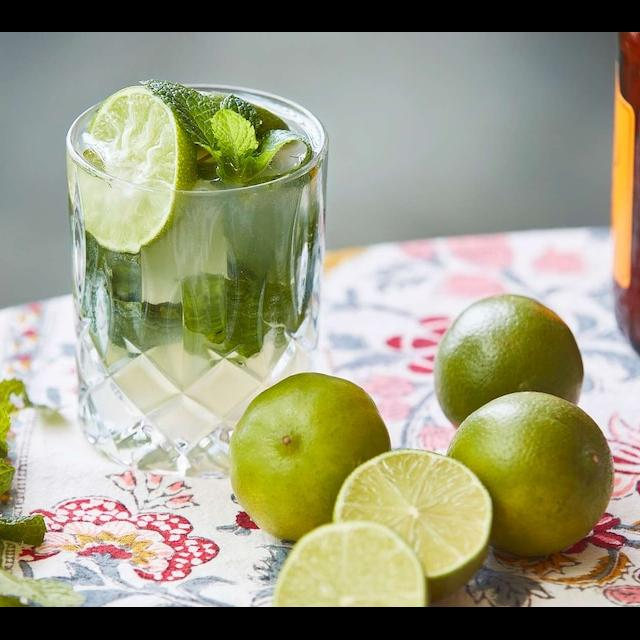lime: (440, 389, 633, 561), (227, 366, 406, 547), (426, 292, 594, 431)
